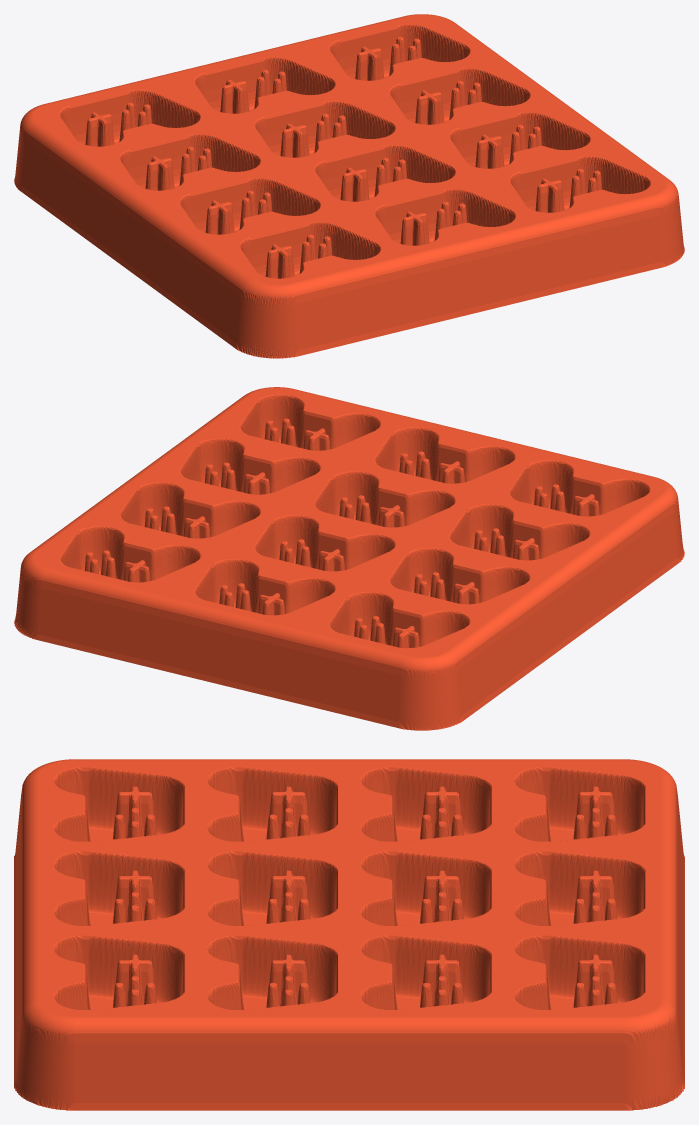
File: mold.glb
3 renders of one model, top to bottom at view 1: azimuth 30°, elevation 25°; view 2: azimuth 150°, elevation 25°; view 3: azimuth 270°, elevation 25°, orthographic. The views are drawn at different scales.
Parts seen in each view (by area): view 1: geometry_0; view 2: geometry_0; view 3: geometry_0.
Boxes of the visible parts, x1,y1,x2,y2 form: geometry_0: (14, 14, 684, 358); geometry_0: (14, 387, 684, 730); geometry_0: (14, 759, 684, 1110).
Bounding box in the file's own units: 0.0963 × 0.0136 × 0.0988.
